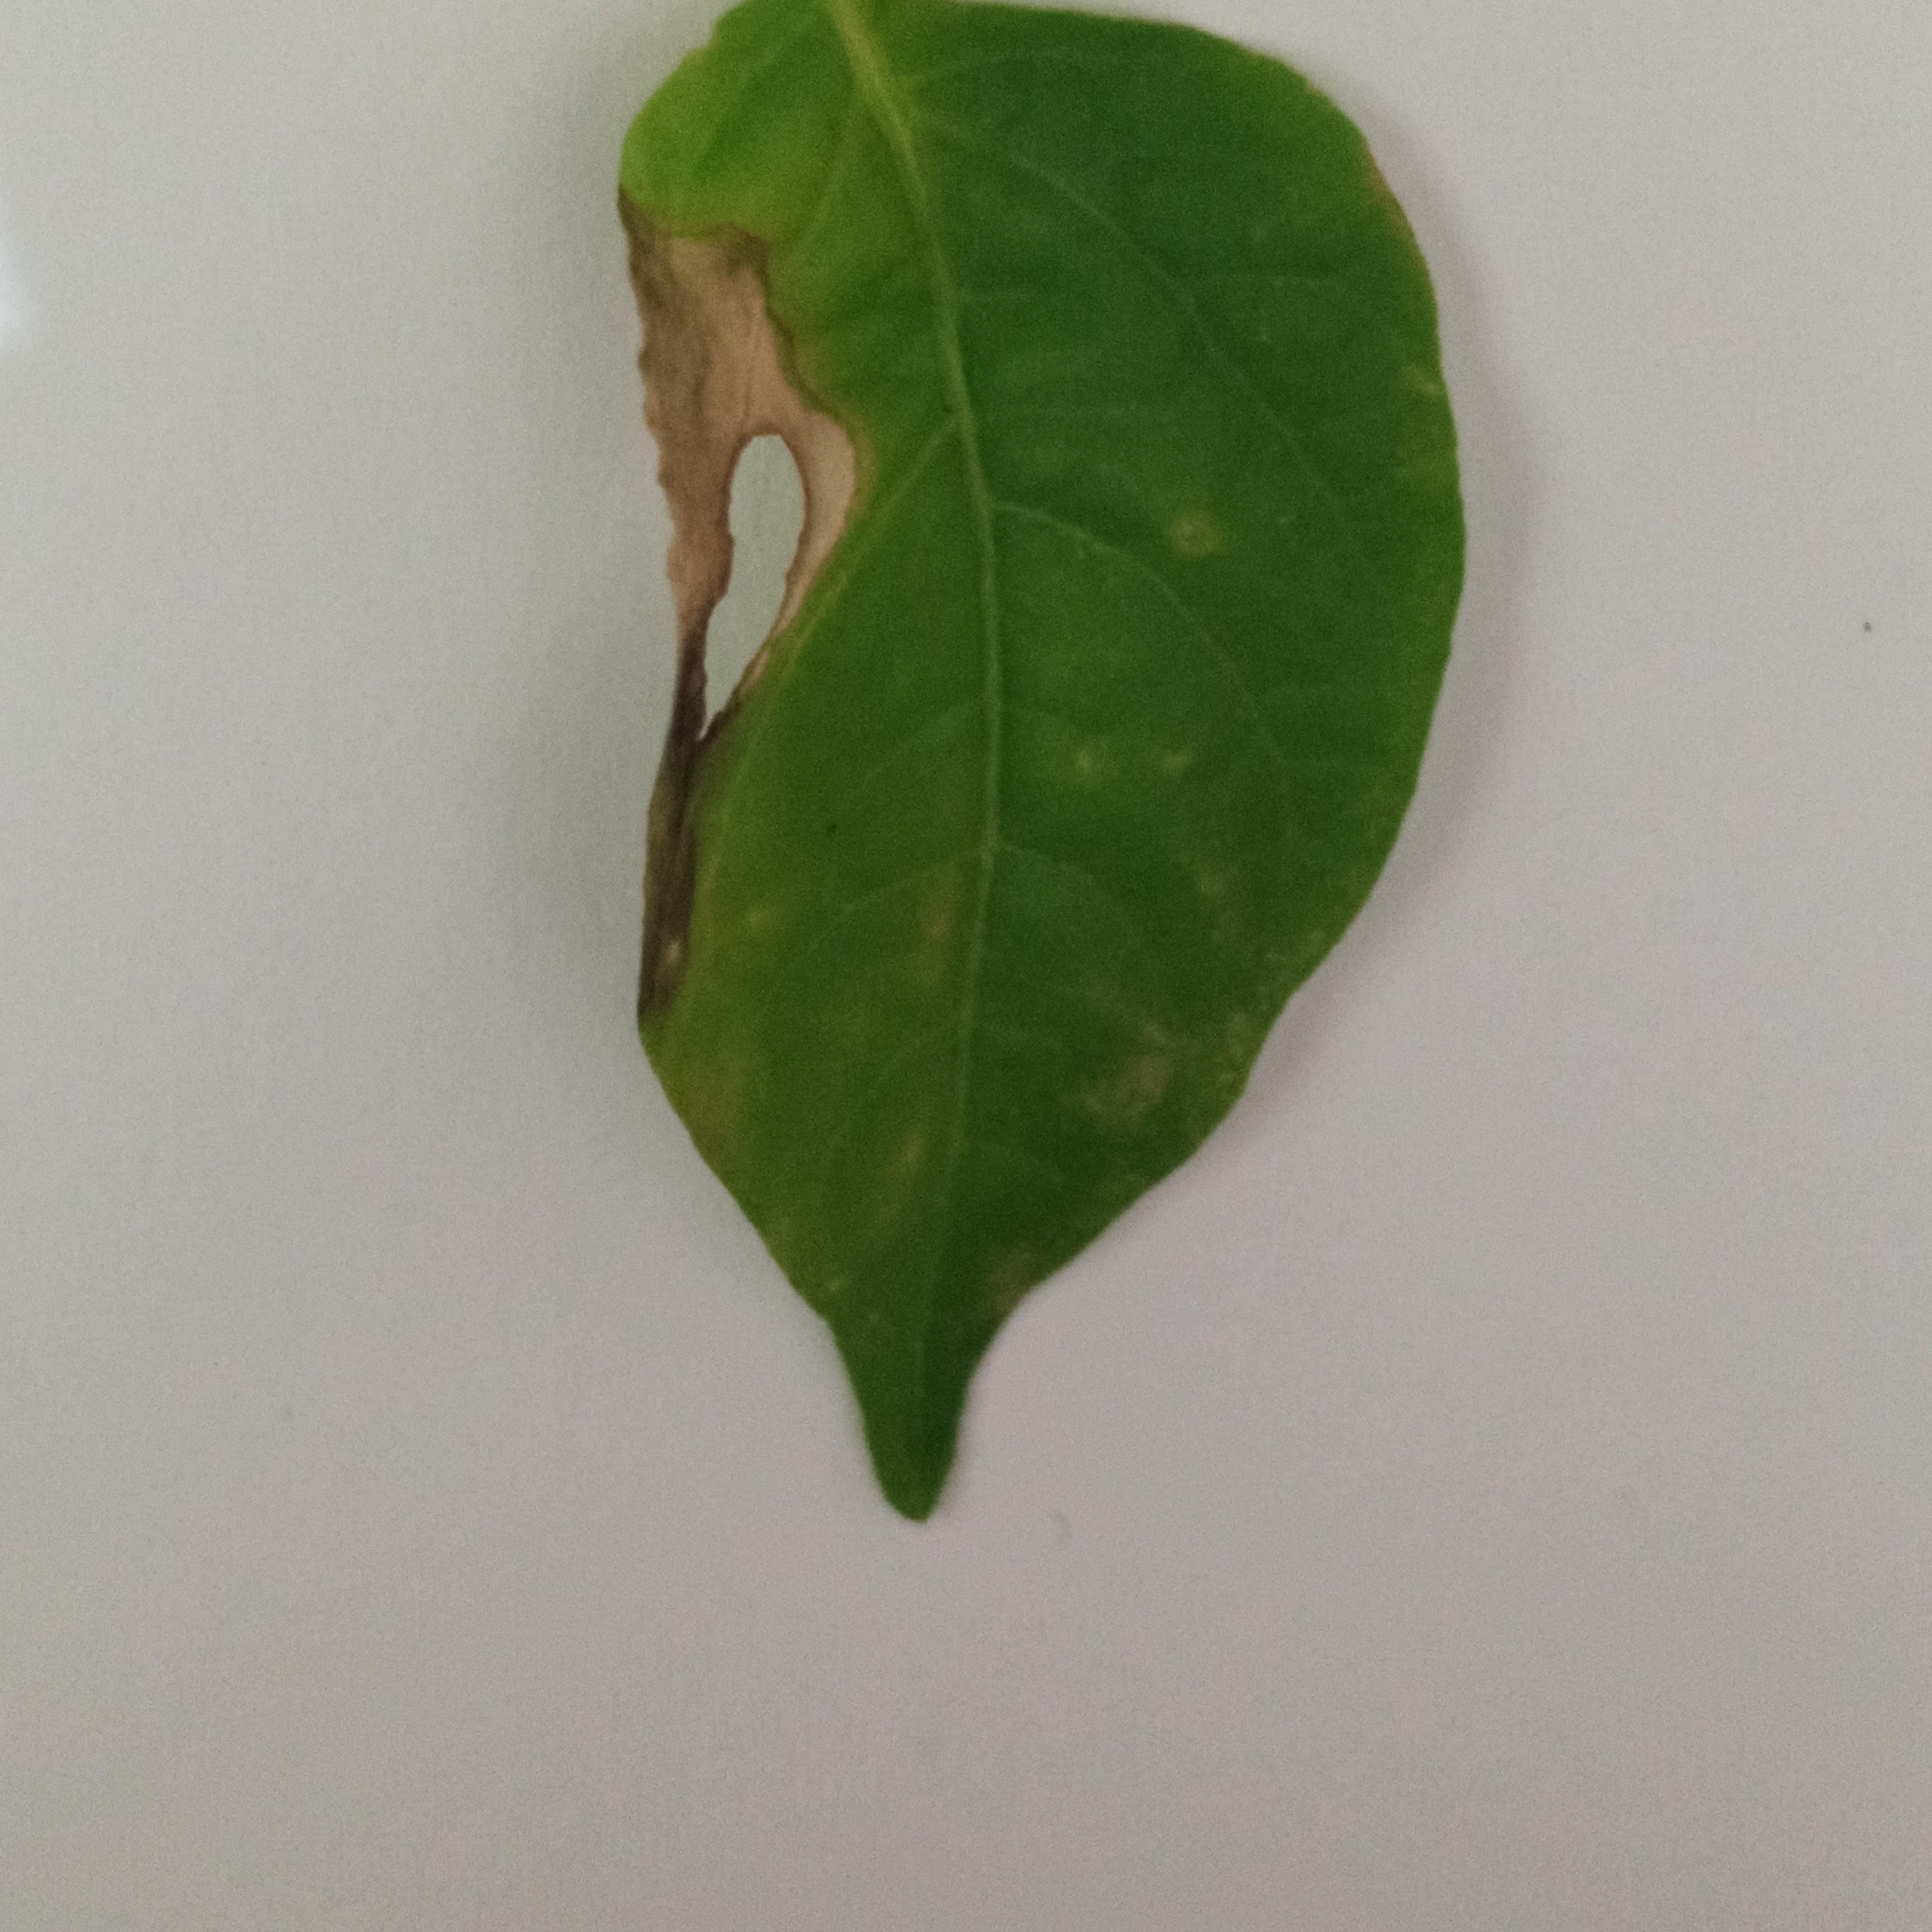Leaf: (318, 0, 1707, 1707)
